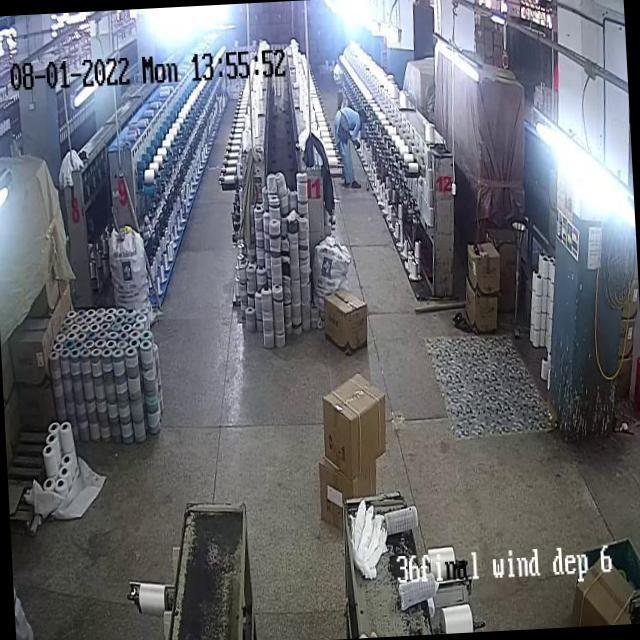person: (332, 102, 370, 195)
